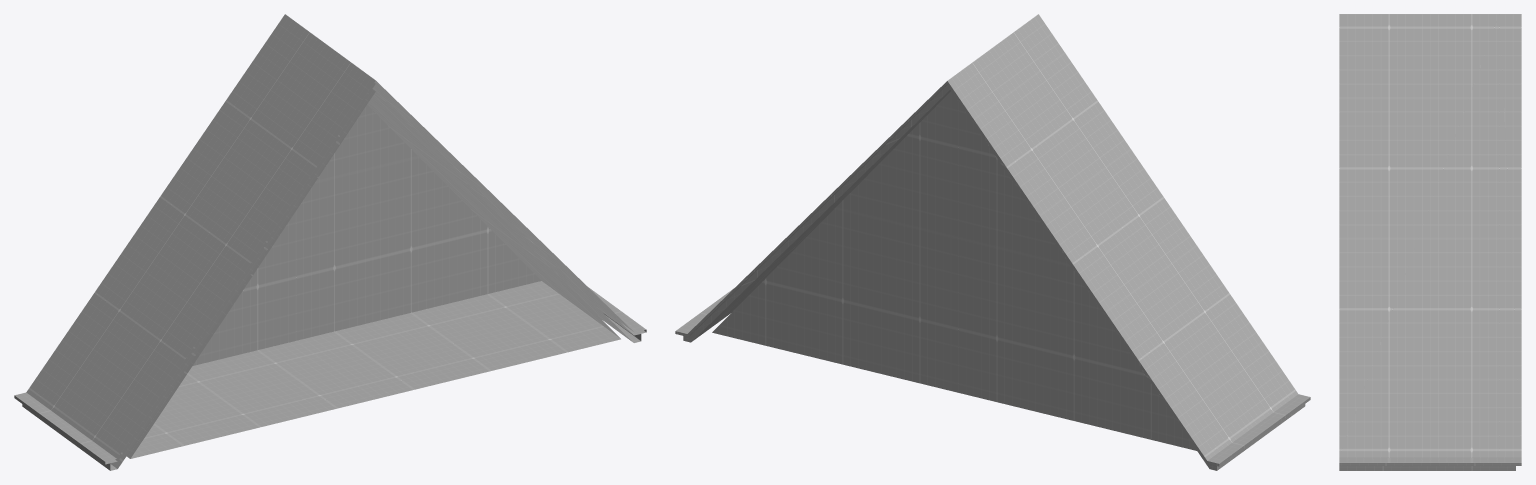
File: HighRoof.004.fbx
The picture shows the model from 3 angles, left to right: view 1: azimuth 30°, elevation 25°; view 2: azimuth 150°, elevation 25°; view 3: azimuth 270°, elevation 25°; orthographic projection.
Visible parts, largest first — view 1: HighRoof.004; view 2: HighRoof.004; view 3: HighRoof.004.
Boxes of the visible parts, left/top/right/bottom form: HighRoof.004: left=14, top=14, right=646, bottom=470; HighRoof.004: left=675, top=14, right=1310, bottom=470; HighRoof.004: left=1339, top=14, right=1521, bottom=470.
Size of the model in its own units: 706 by 406 by 205.
